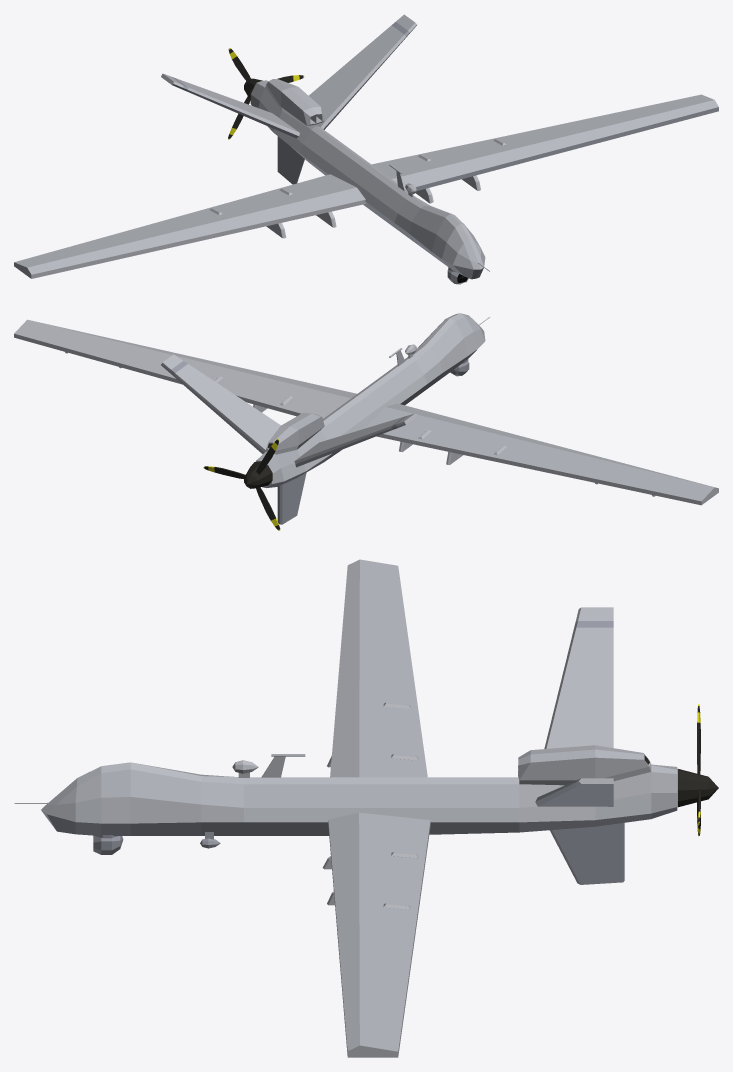
3 views of the same model, one above another, from view 1: azimuth 30°, elevation 25°; view 2: azimuth 150°, elevation 25°; view 3: azimuth 270°, elevation 25° (orthographic). The views are drawn at different scales.
Visible parts, largest first — view 1: Airframe, Propellor; view 2: Airframe, Propellor; view 3: Airframe, Propellor.
Boxes of the visible parts, x1,y1,x2,y2 form: Airframe: (14,14,718,279); Propellor: (228,48,304,139); Airframe: (14,313,718,524); Propellor: (203,439,280,530); Airframe: (14,559,677,1057); Propellor: (677,704,718,836).
Bounding box in the file's own units: 19.95 × 3.65 × 12.23.
4 materials, 4 textured.
